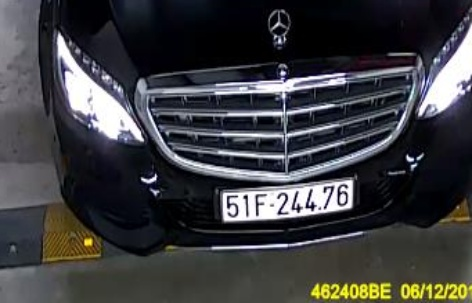plate: (214, 179, 359, 228)
